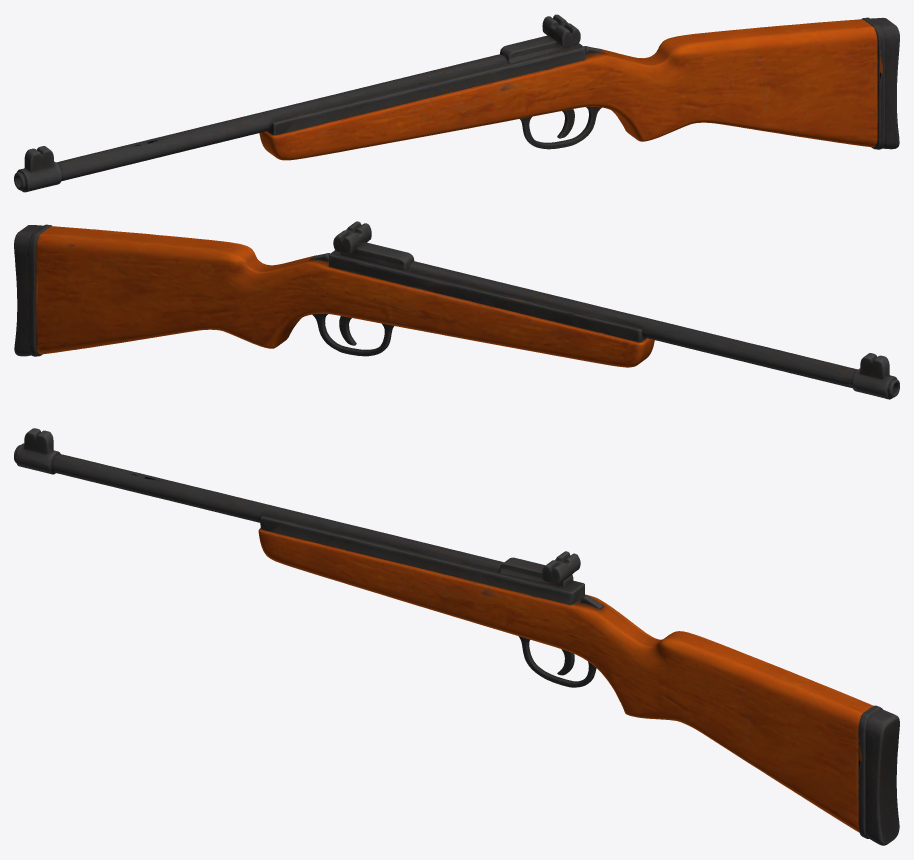
Rendered from a3D-rifle.glb.
3 views of the same model, one above another, from view 1: azimuth 30°, elevation 25°; view 2: azimuth 150°, elevation 25°; view 3: azimuth 330°, elevation 25° (orthographic).
Parts seen in each view (by area): view 1: geometry_0; view 2: geometry_0; view 3: geometry_0.
Part boxes in pixels (<box>): geometry_0: <box>14,14,899,192</box>; geometry_0: <box>14,221,899,399</box>; geometry_0: <box>14,428,899,845</box>.
Size of the model in its own units: 1.91 by 0.4245 by 0.0795.
Materials: 1 (1 with a texture image).
